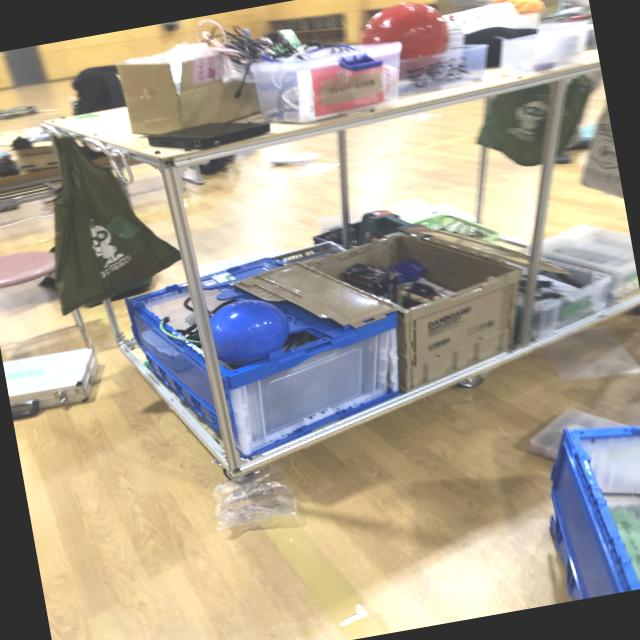blue_ball: (202, 290, 294, 372)
red_ball: (357, 0, 459, 80)
